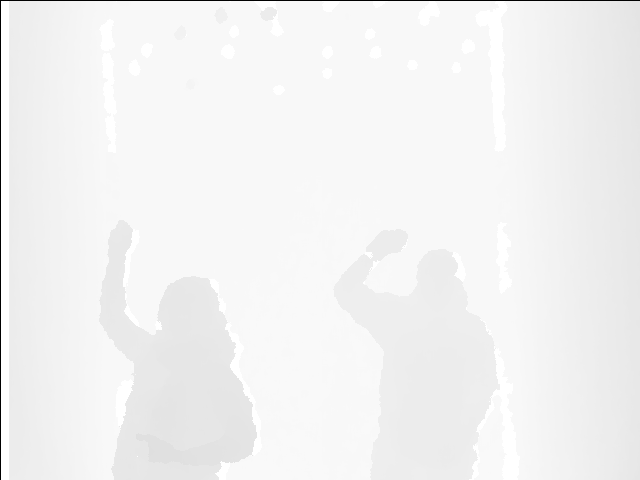hand: (372, 228, 410, 259), (107, 218, 134, 257)
